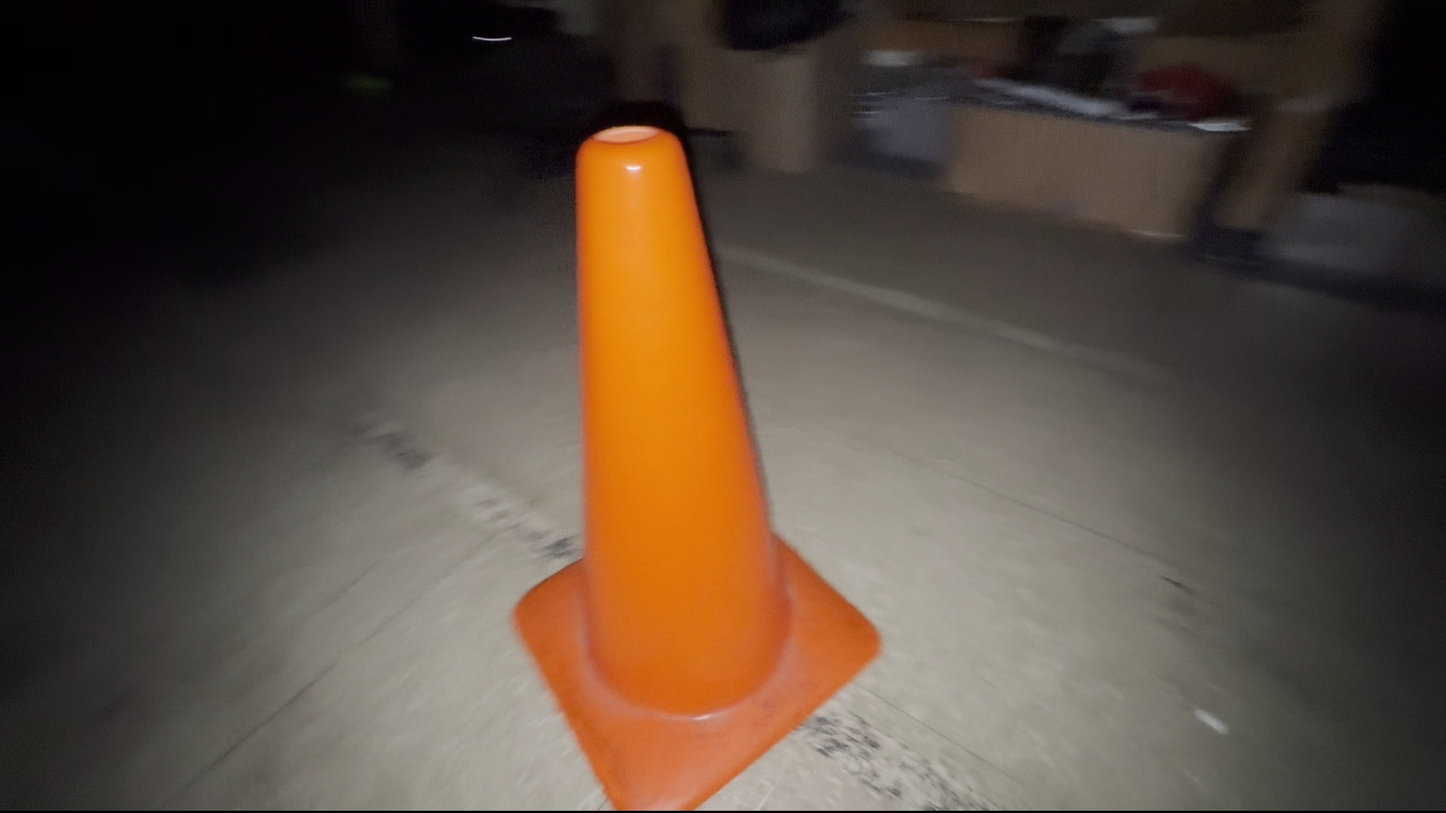traffic_cone: (511, 123, 883, 810)
